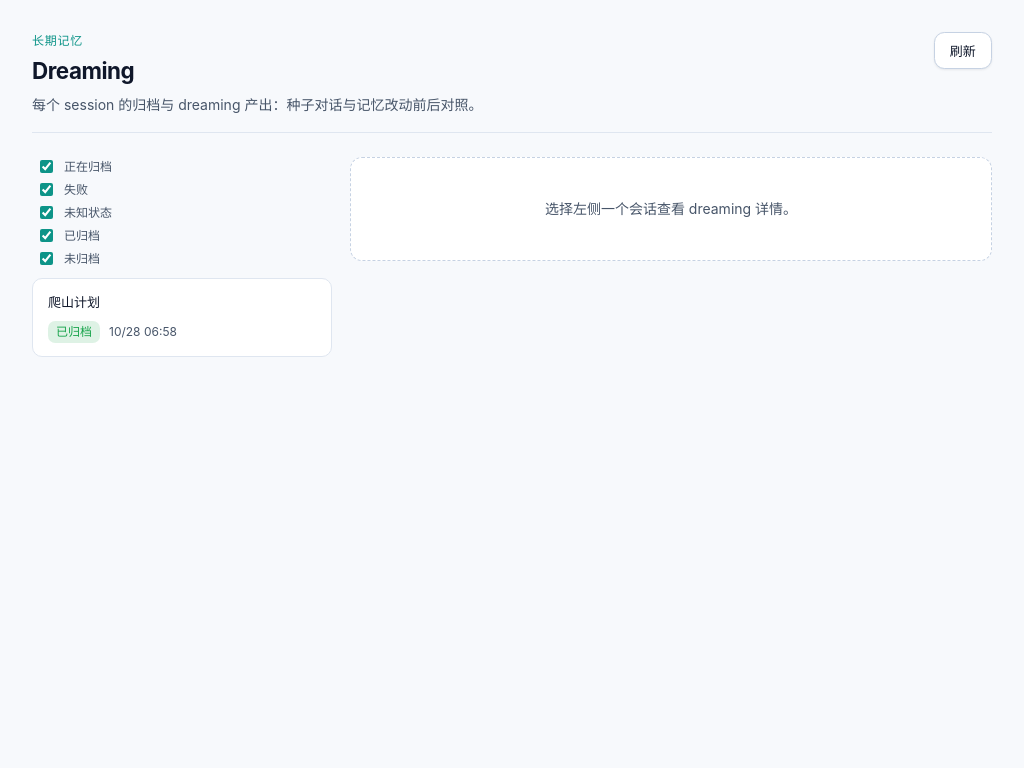
Test case: DreamingPage › shows per-archive seeds and one-to-one before/after diffs
Click the text "爬山计划". click: {"x": 74, "y": 303}
box: top-left (48, 292), bottom-right (100, 313)
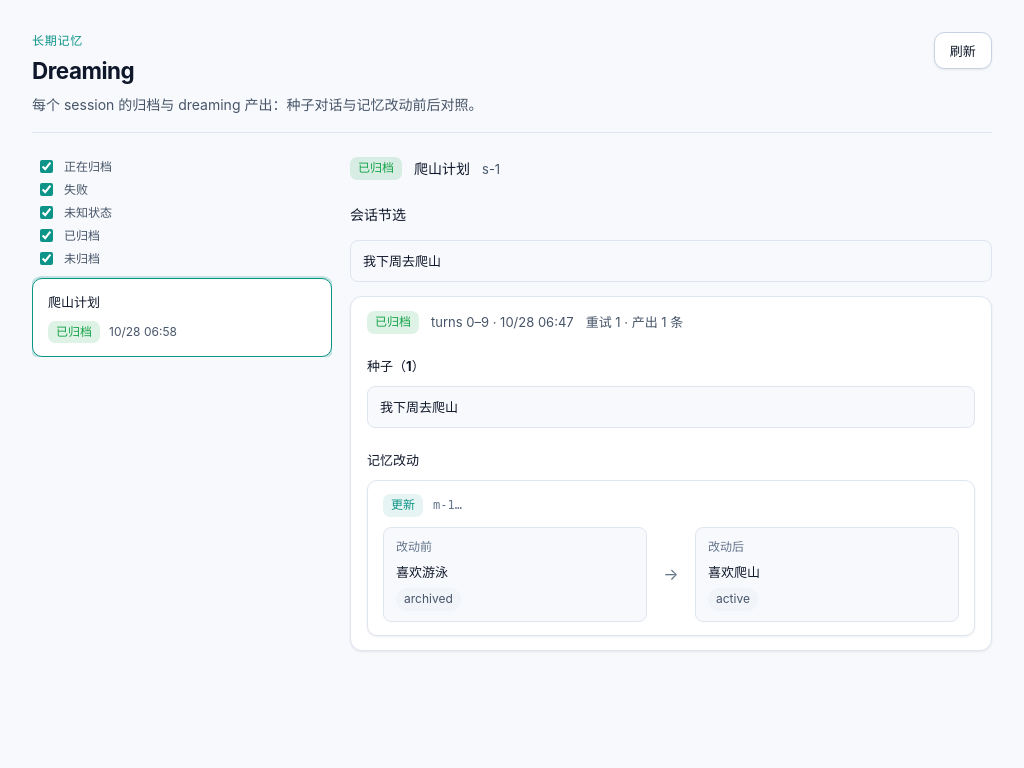
Expected: the text "喜欢游泳" is shown, top-left (396, 564), bottom-right (448, 580)
Expected: the text "喜欢爬山" is shown, top-left (708, 564), bottom-right (760, 580)
Expected: the text "turns 0–9 · 10/28 06:47" is shown, top-left (431, 312), bottom-right (574, 332)
